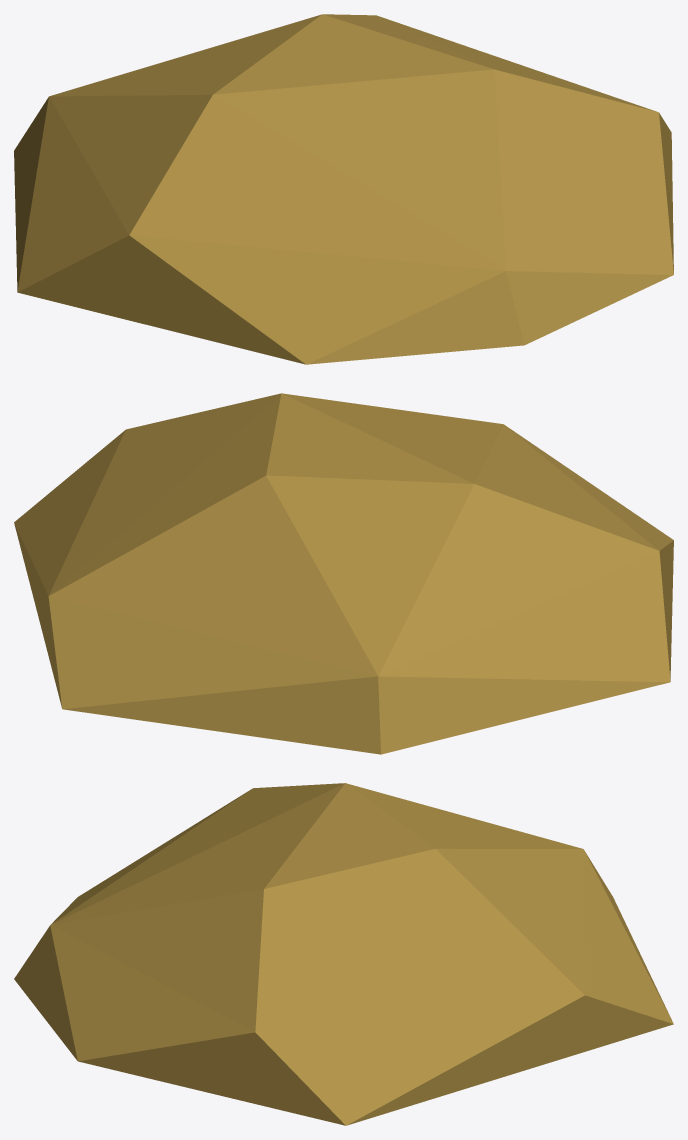
File: Egg_Fried.glb
The picture shows the model from 3 angles, top to bottom: view 1: azimuth 30°, elevation 25°; view 2: azimuth 150°, elevation 25°; view 3: azimuth 270°, elevation 25°; orthographic projection. The views are drawn at different scales.
Visible parts, largest first — view 1: Yellow; view 2: Yellow; view 3: Yellow.
Part boxes in pixels (x1=…): Yellow: x1=14, y1=14, x2=673, y2=364; Yellow: x1=14, y1=393, x2=673, y2=754; Yellow: x1=14, y1=783, x2=673, y2=1125.
Size of what is drawn, in the model's own units: 0.429 by 0.0976 by 0.4089.
